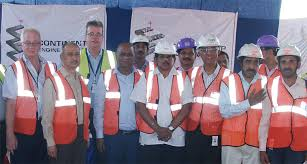arm: (132, 63, 171, 139), (1, 62, 21, 154), (88, 64, 108, 156), (39, 69, 59, 159), (217, 72, 257, 117), (257, 79, 274, 162)
face: (80, 25, 104, 51), (113, 43, 135, 70), (18, 35, 44, 57), (278, 54, 301, 76), (58, 46, 81, 68), (177, 44, 197, 65), (200, 45, 220, 65), (259, 44, 279, 64), (240, 54, 261, 73), (155, 51, 175, 69)
glove: (92, 134, 109, 154), (155, 121, 172, 141)
goggle: (201, 48, 218, 56)
helmet: (236, 40, 264, 61), (174, 34, 199, 54), (152, 37, 178, 56), (199, 32, 223, 50), (1, 58, 8, 87)
human: (89, 33, 155, 161), (1, 22, 58, 162), (258, 40, 307, 162)
leg: (219, 144, 242, 163)
noglove: (2, 126, 21, 153), (43, 138, 59, 159), (155, 122, 172, 140), (258, 147, 272, 163)
nogoggle: (81, 28, 103, 40), (20, 40, 42, 49), (61, 51, 80, 61), (156, 52, 174, 62), (279, 58, 298, 67), (260, 46, 277, 55), (179, 46, 195, 55), (242, 57, 259, 65)
nohelmet: (80, 9, 107, 49), (14, 23, 46, 52), (112, 38, 137, 71), (56, 36, 82, 65), (174, 34, 199, 55)
vest: (95, 60, 163, 136), (2, 53, 52, 151), (44, 63, 90, 144), (218, 69, 266, 144), (263, 73, 307, 149)
